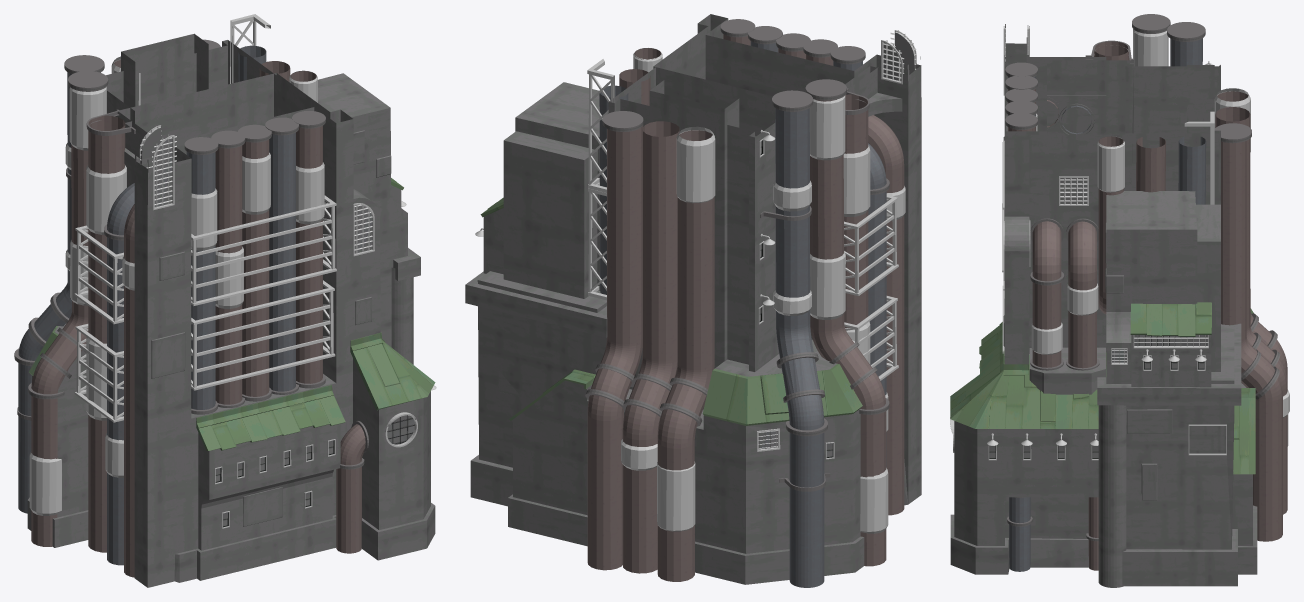
Rendered from AreaC_Building_Aa.fbx.
3 renders of one model, left to right at view 1: azimuth 30°, elevation 25°; view 2: azimuth 150°, elevation 25°; view 3: azimuth 270°, elevation 25°, orthographic. The views are drawn at different scales.
Parts seen in each view (by area): view 1: SM_ENV_AMVLLG02_AreaC_Building_Aa.mo; view 2: SM_ENV_AMVLLG02_AreaC_Building_Aa.mo; view 3: SM_ENV_AMVLLG02_AreaC_Building_Aa.mo.
Boxes of the visible parts, <box> form: SM_ENV_AMVLLG02_AreaC_Building_Aa.mo: <box>14,14,436,587</box>; SM_ENV_AMVLLG02_AreaC_Building_Aa.mo: <box>465,14,921,587</box>; SM_ENV_AMVLLG02_AreaC_Building_Aa.mo: <box>950,14,1289,587</box>.
Size of the model in its own units: 2840 by 3318 by 2325.
